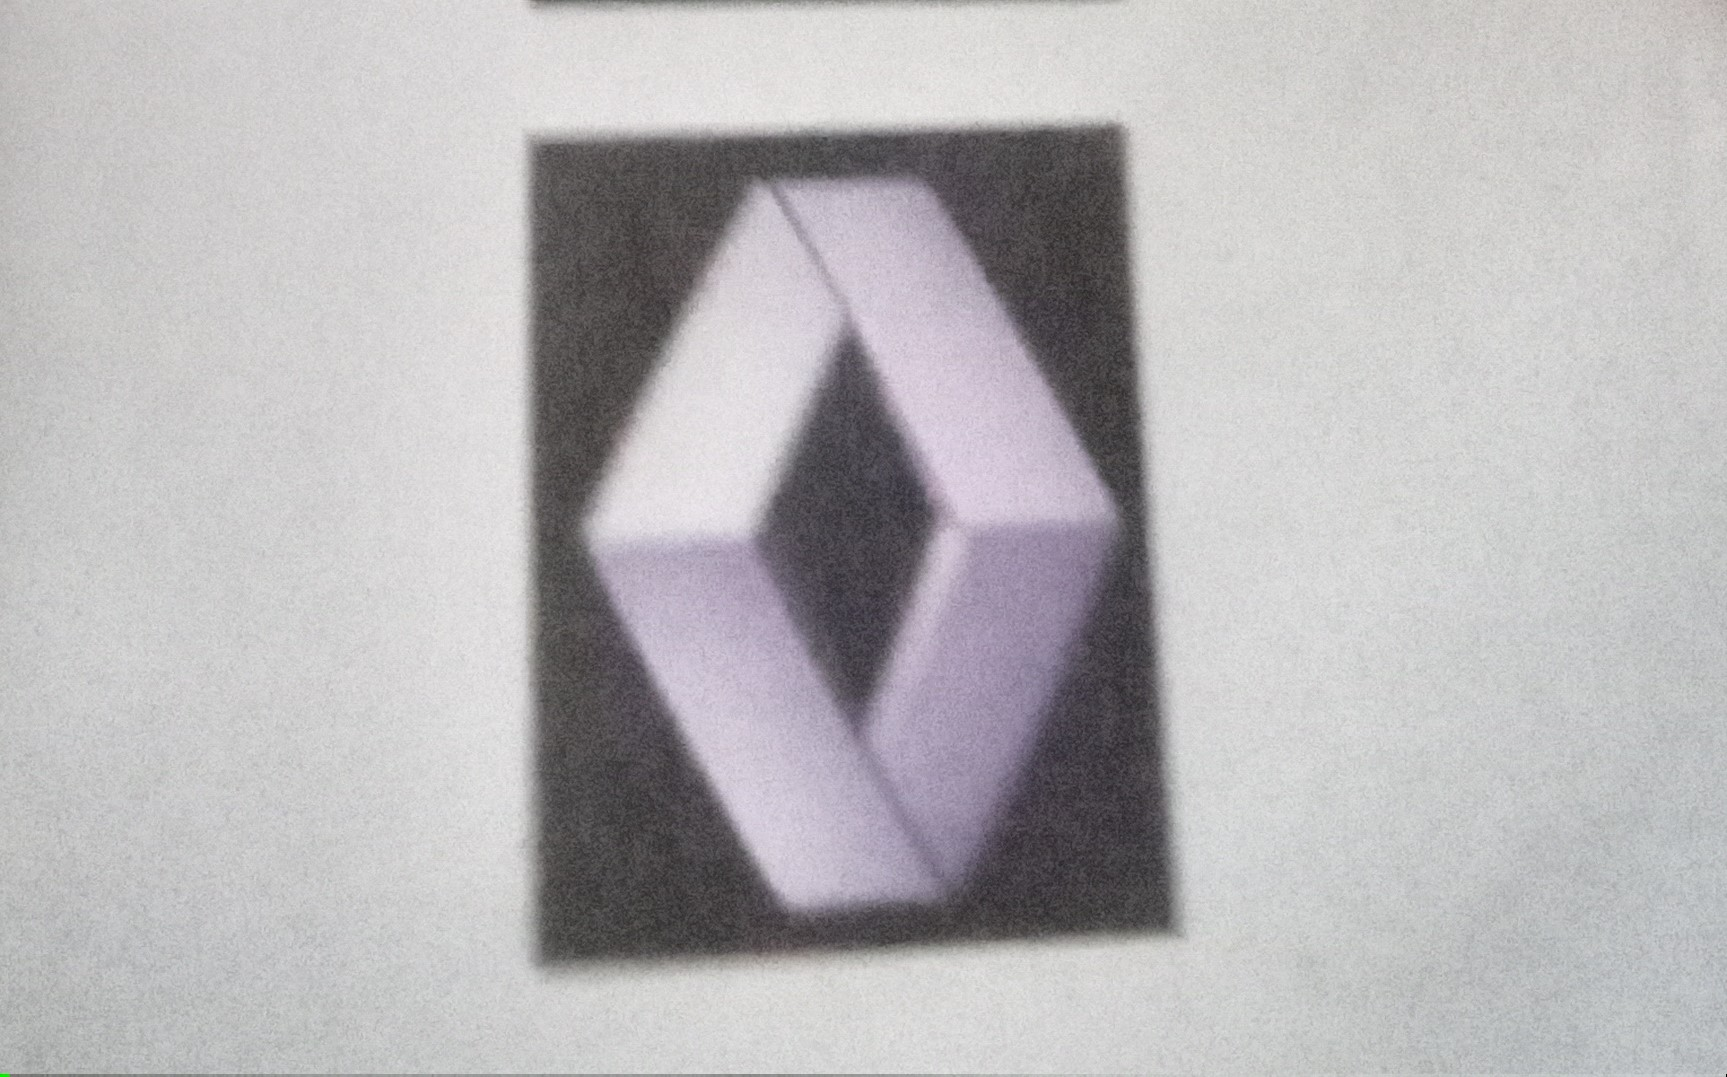Renault: (556, 153, 1139, 926)
